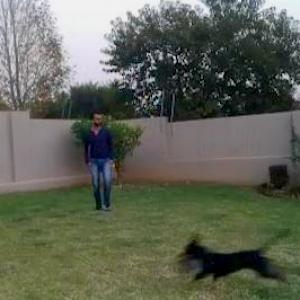follow: (85, 108, 115, 213)
